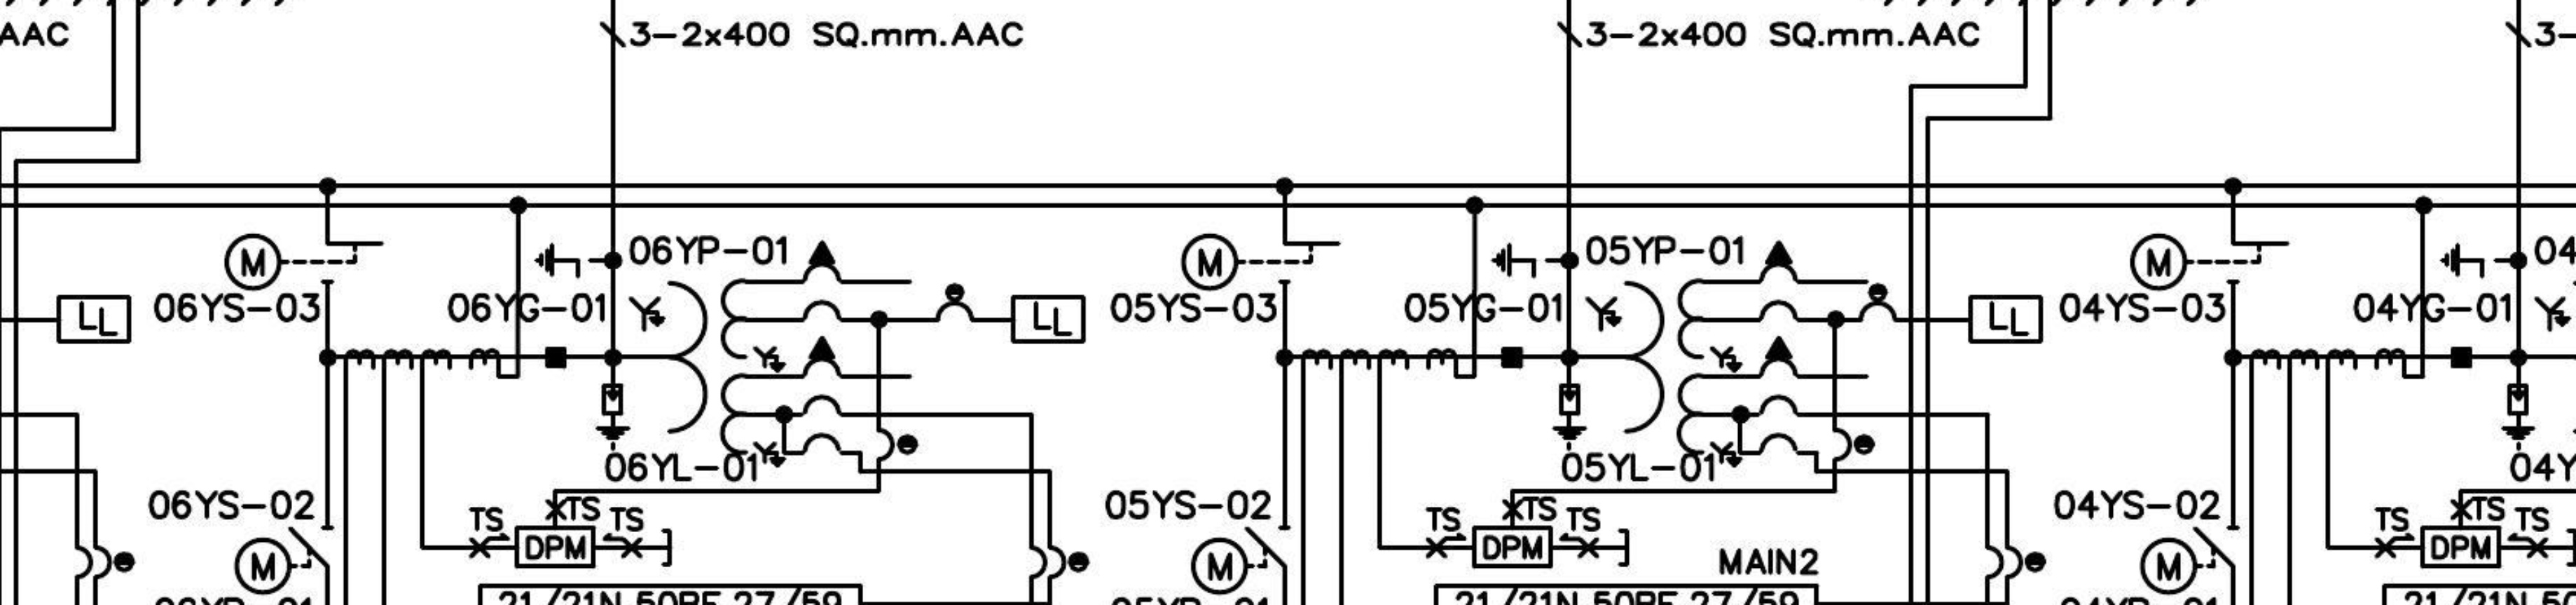115_1way_ds_w_motor: (222, 233, 386, 293), (1178, 233, 1342, 293), (2127, 233, 2290, 293), (2137, 524, 2241, 597), (233, 524, 335, 597), (1189, 524, 1291, 597)
115_gs: (532, 242, 595, 279), (1488, 242, 1551, 279), (2438, 242, 2500, 279)
115_la: (595, 383, 632, 452), (2499, 383, 2537, 452), (1551, 383, 1587, 452)
115_vt_3p: (628, 238, 843, 469), (1584, 238, 1799, 469)
DPM: (514, 526, 596, 569), (1470, 526, 1552, 569), (2418, 526, 2500, 569)
LL: (1966, 294, 2044, 345), (56, 294, 133, 344), (1010, 294, 1088, 344)
